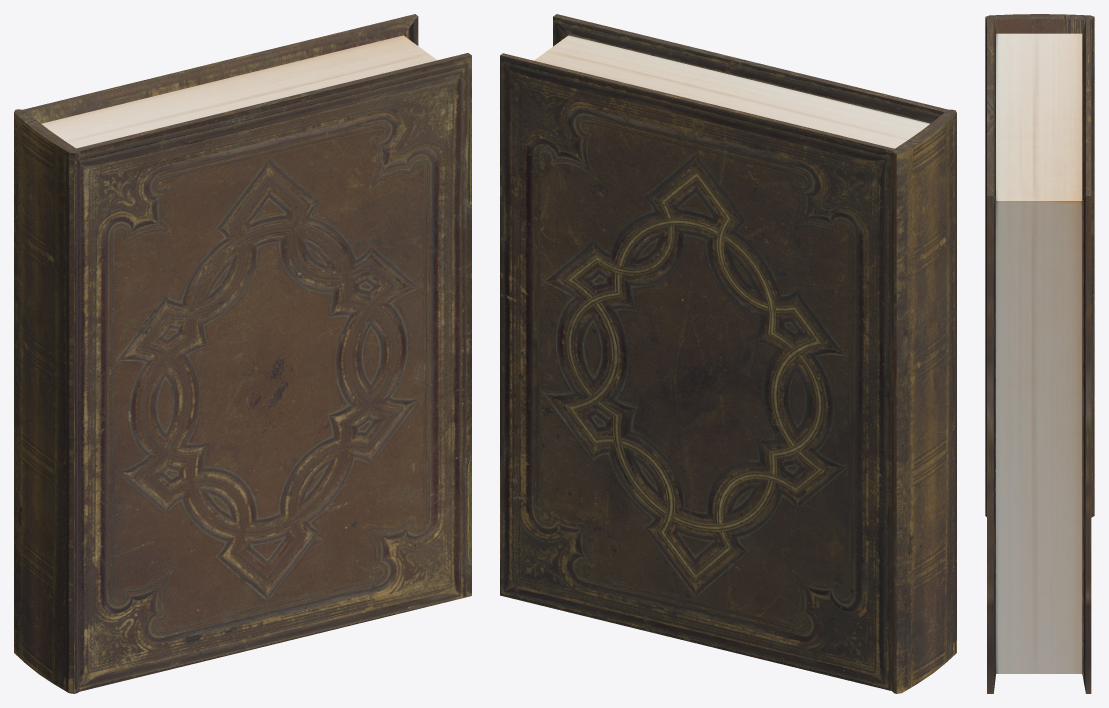
File: book5.fbx
The picture shows the model from 3 angles, left to right: view 1: azimuth 30°, elevation 25°; view 2: azimuth 150°, elevation 25°; view 3: azimuth 270°, elevation 25°; orthographic projection. The views are drawn at different scales.
Visible parts, largest first — view 1: Cube; view 2: Cube; view 3: Cube.
Boxes of the visible parts, x1,y1,x2,y2 form: Cube: (14, 14, 471, 693); Cube: (500, 14, 956, 693); Cube: (985, 14, 1094, 693).
Bounding box in the file's own units: 7.81 × 9.97 × 1.98.
Materials: 2 (2 with a texture image).
